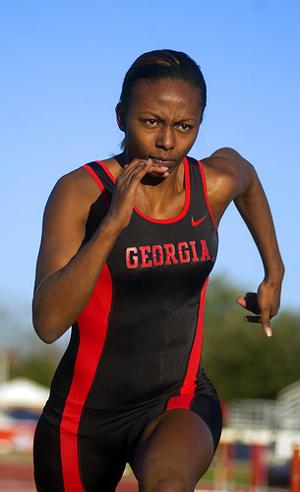person: (32, 44, 285, 492)
